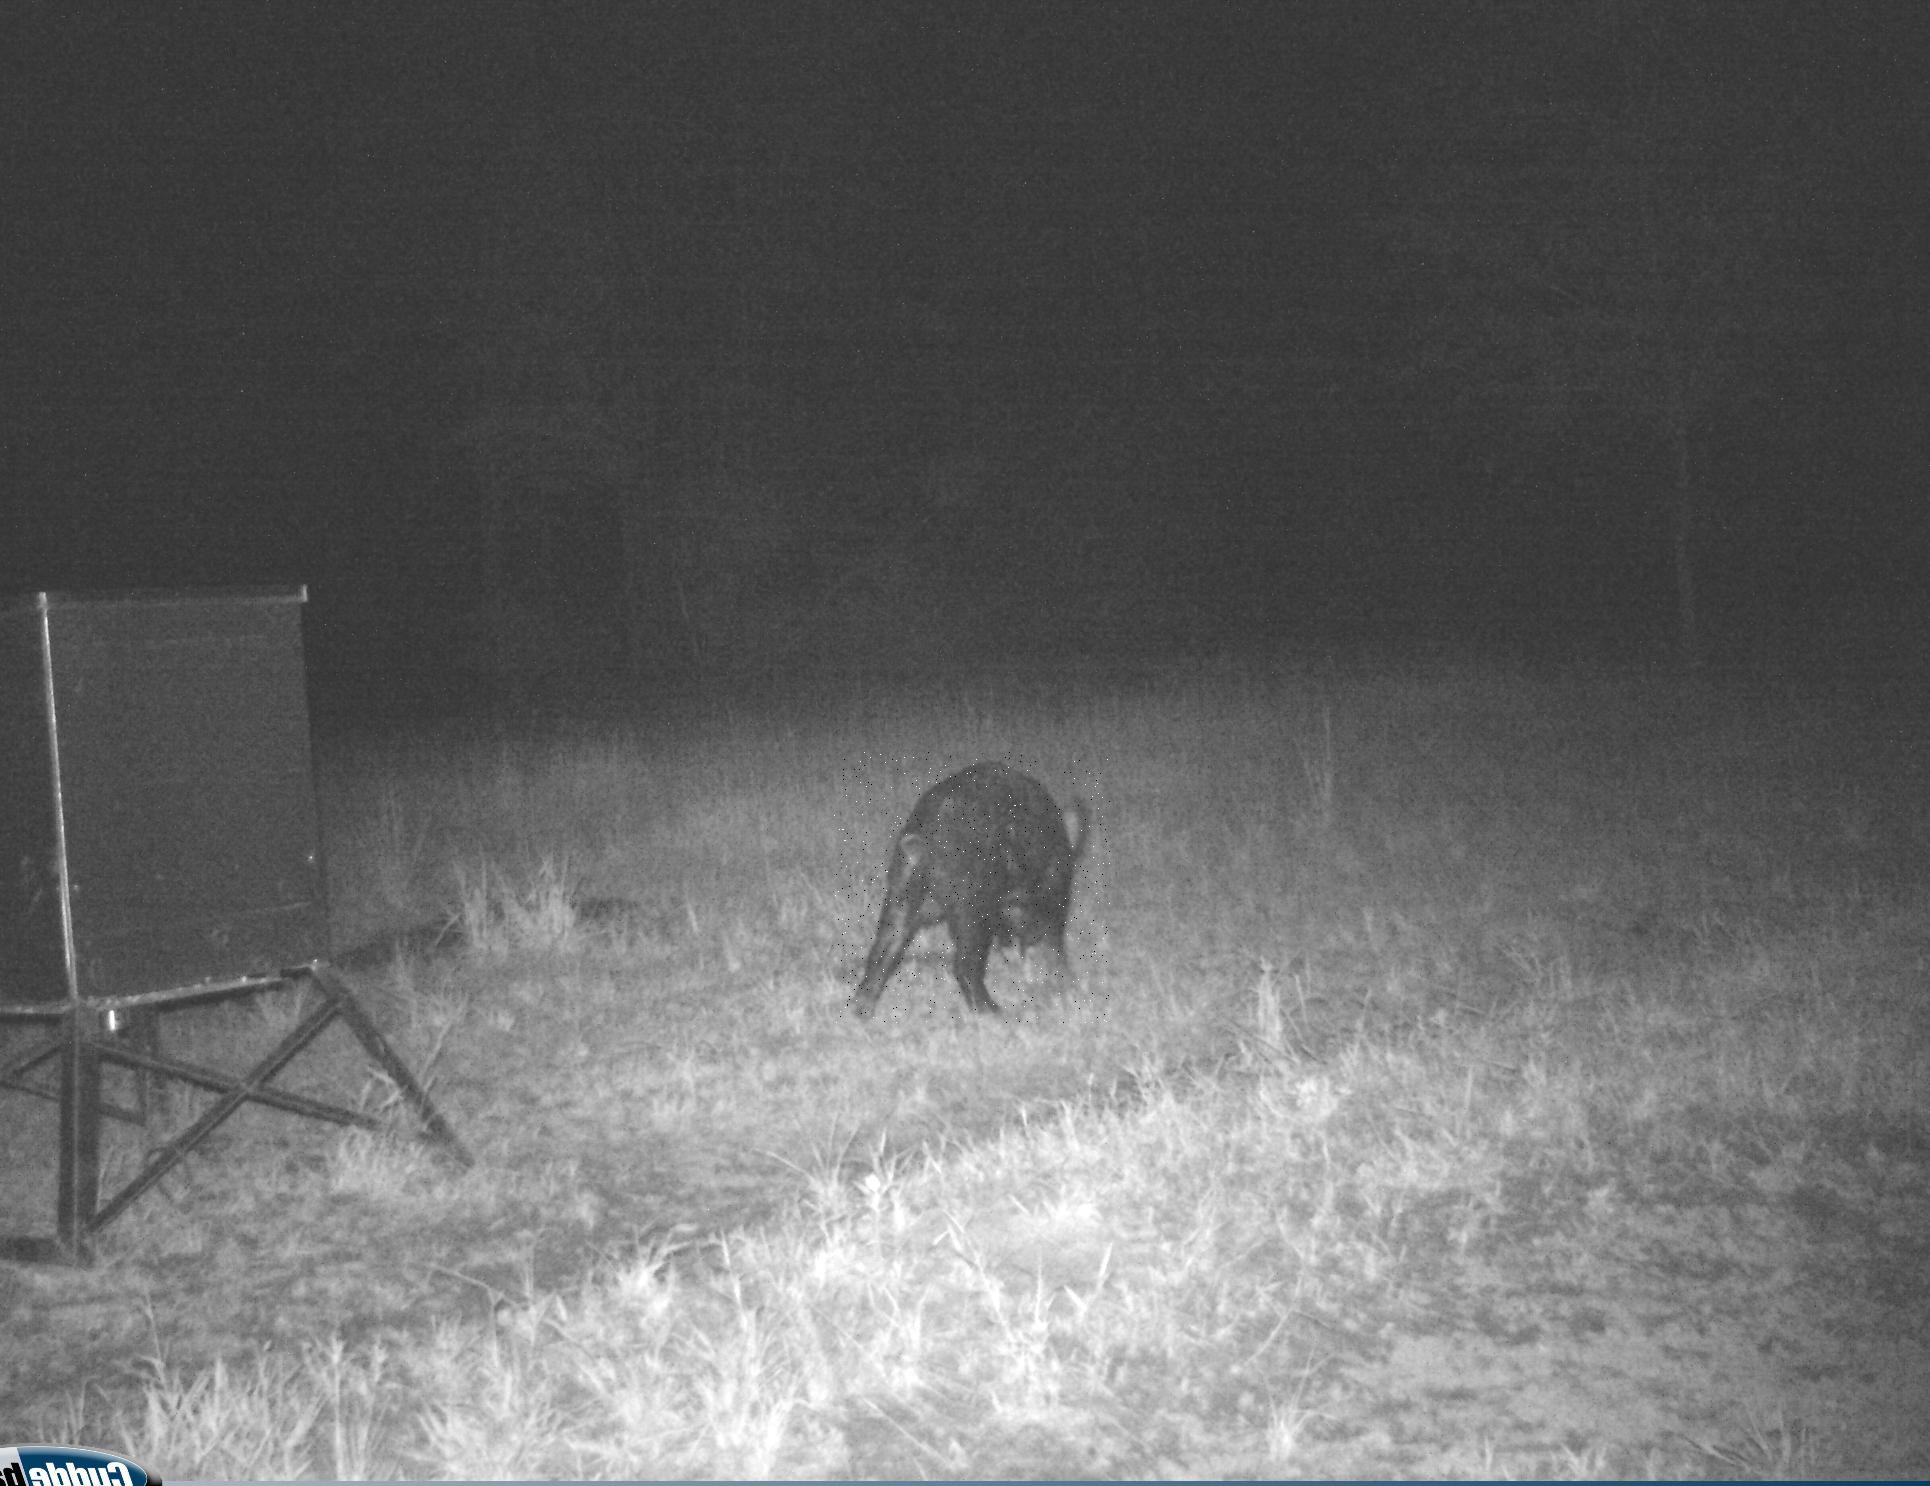Hog: (835, 752, 1109, 1024)
